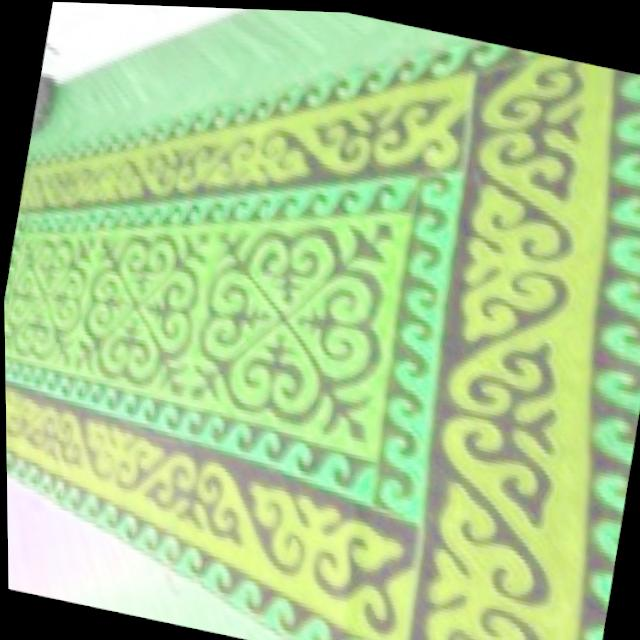Unity: (186, 217, 393, 449), (72, 227, 207, 405), (5, 232, 90, 368)
